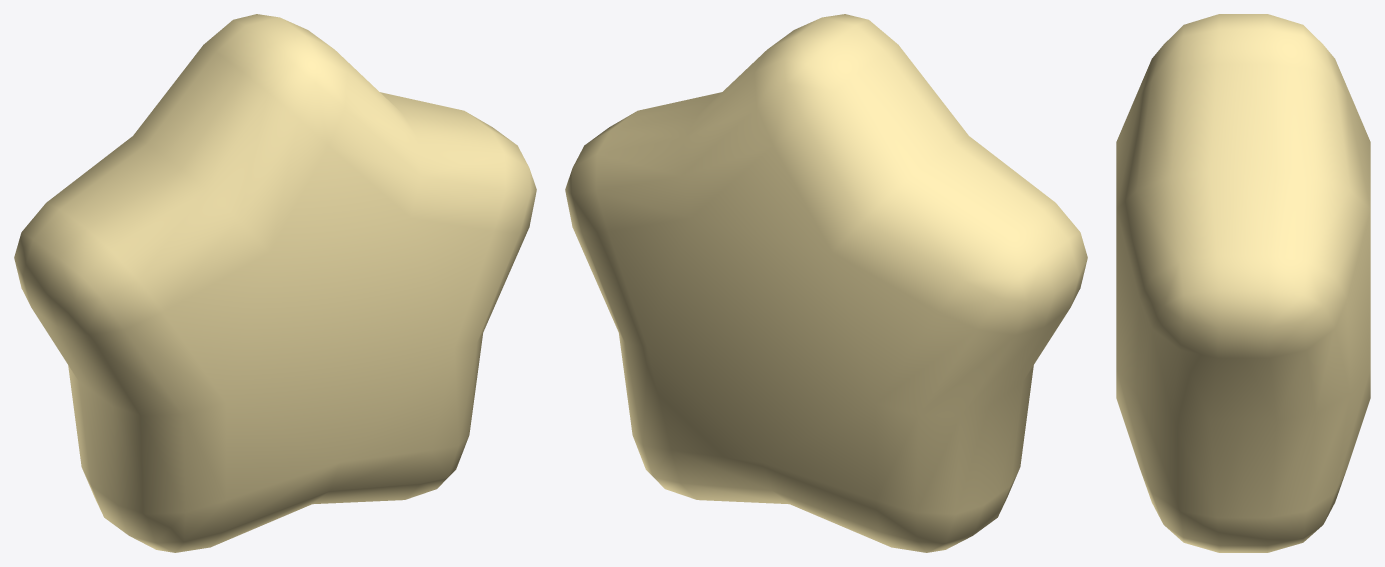
Rendered from star.glb.
3 views of the same model, side by side, from view 1: azimuth 30°, elevation 25°; view 2: azimuth 150°, elevation 25°; view 3: azimuth 270°, elevation 25° (orthographic). The views are drawn at different scales.
Parts seen in each view (by area): view 1: Cylinder.002; view 2: Cylinder.002; view 3: Cylinder.002.
Boxes of the visible parts, <box> form: Cylinder.002: <box>14,14,536,552</box>; Cylinder.002: <box>565,14,1087,552</box>; Cylinder.002: <box>1116,14,1370,552</box>.
Size of the model in its own units: 1.94 by 1.85 by 0.9087.
